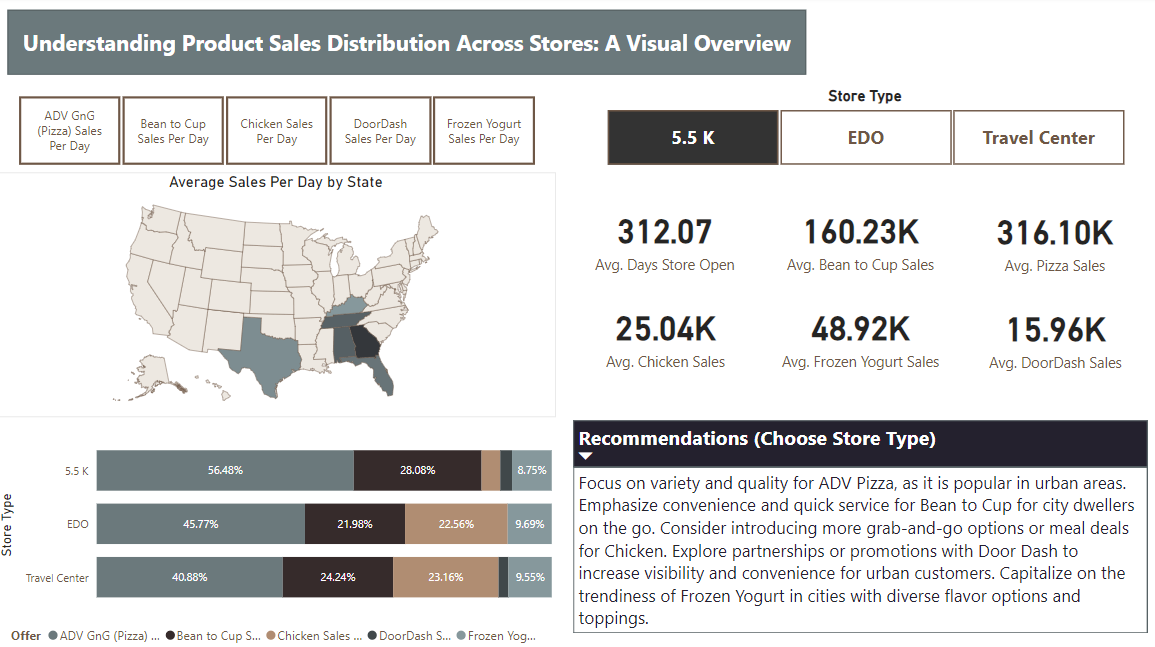

The dashboard page shown, as its layout file describes it:
{"tool":"powerbi","page":{"name":"Sales Distribution","canvas":[1280,720],"ordinal":0},"visuals":[{"type":"shapeMap","title":"Average Sales Per Day by State","fields":{"Category":["Melted Table.State"],"Value":["Avg(Melted Table.Value)"]},"box":[0,194,616.7,267.9],"z":0},{"type":"slicer","fields":{"Values":["Melted Table.Attribute"]},"box":[0,102.5,616.5,89.3],"z":1000},{"type":"hundredPercentStackedBarChart","fields":{"Category":["Table 2 (Unpivot).Store Type"],"Series":["Table 2 (Unpivot).Offer"],"Y":["Sum(Table 2 (Unpivot).Percentage)"]},"box":[0,462.1,616.5,258.2],"z":2000},{"type":"card","fields":{"Values":["Avg(Melted Full Table.Value)"]},"box":[650.4,222.3,170.2,87.8],"z":3000,"group":"g1"},{"type":"tableEx","fields":{"Values":["Recommendations.Recommendations"]},"box":[628.5,461.1,651.8,259.3],"z":3000},{"type":"slicer","title":"Store Type","fields":{"Values":["Store Connector.Store Type"]},"box":[646.3,98.8,617.5,93.3],"z":4000},{"type":"group","id":"g1","title":"Group 1","box":[650.4,220.9,599.7,90.6],"z":5000},{"type":"shape","title":"Understanding Product Sales Distribution Across Stores: A Visual Overview","box":[13.7,15.1,876.8,71.4],"z":6000},{"type":"card","fields":{"Values":["Avg(Melted Full Table.Value)"]},"box":[859,220.9,182.5,90.6],"z":6000,"group":"g1"},{"type":"card","fields":{"Values":["Avg(Melted Full Table.Value)"]},"box":[1077.2,222.3,172.9,89.2],"z":7000,"group":"g1"},{"type":"group","id":"g2","title":"Group 2","box":[640.8,328,617.5,90.6],"z":7000},{"type":"card","fields":{"Values":["Avg(Melted Full Table.Value)"]},"box":[640.8,328,190.7,89.2],"z":8000,"group":"g2"},{"type":"card","fields":{"Values":["Avg(Melted Full Table.Value)"]},"box":[1068.9,328,190.7,91.9],"z":9000,"group":"g2"},{"type":"card","fields":{"Values":["Avg(Melted Full Table.Value)"]},"box":[854.9,328,190.7,89.2],"z":10000,"group":"g2"}]}

Visuals, with their boxes in screenshot pixels (x1, y1, x2, y2), scaled from the page's 1280x720 canvas onto the 1155x647 screenshot:
"Average Sales Per Day by State" shapeMap: box(0, 174, 556, 415)
slicer - Melted Table.Attribute: box(0, 92, 556, 172)
hundredPercentStackedBarChart - Table 2 (Unpivot).Store Type x Table 2 (Unpivot).Offer: box(0, 415, 556, 646)
card - Avg(Melted Full Table.Value): box(587, 200, 740, 279)
tableEx - Recommendations.Recommendations: box(567, 414, 1154, 646)
"Store Type" slicer: box(583, 89, 1140, 173)
"Group 1" group: box(587, 199, 1128, 280)
"Understanding Product Sales Distribution Across Stores: A Visual Overview" shape: box(12, 14, 804, 78)
card - Avg(Melted Full Table.Value): box(775, 199, 940, 280)
card - Avg(Melted Full Table.Value): box(972, 200, 1128, 280)
"Group 2" group: box(578, 295, 1135, 376)
card - Avg(Melted Full Table.Value): box(578, 295, 750, 375)
card - Avg(Melted Full Table.Value): box(965, 295, 1137, 377)
card - Avg(Melted Full Table.Value): box(771, 295, 943, 375)
